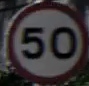Speed limit: (5, 4, 84, 78)
